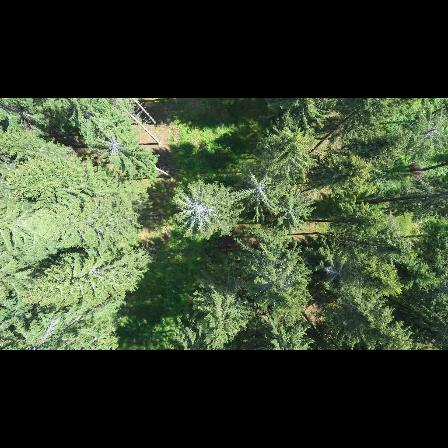Sick: (172, 182, 227, 240), (226, 162, 287, 211), (317, 252, 356, 291), (99, 126, 129, 160)
